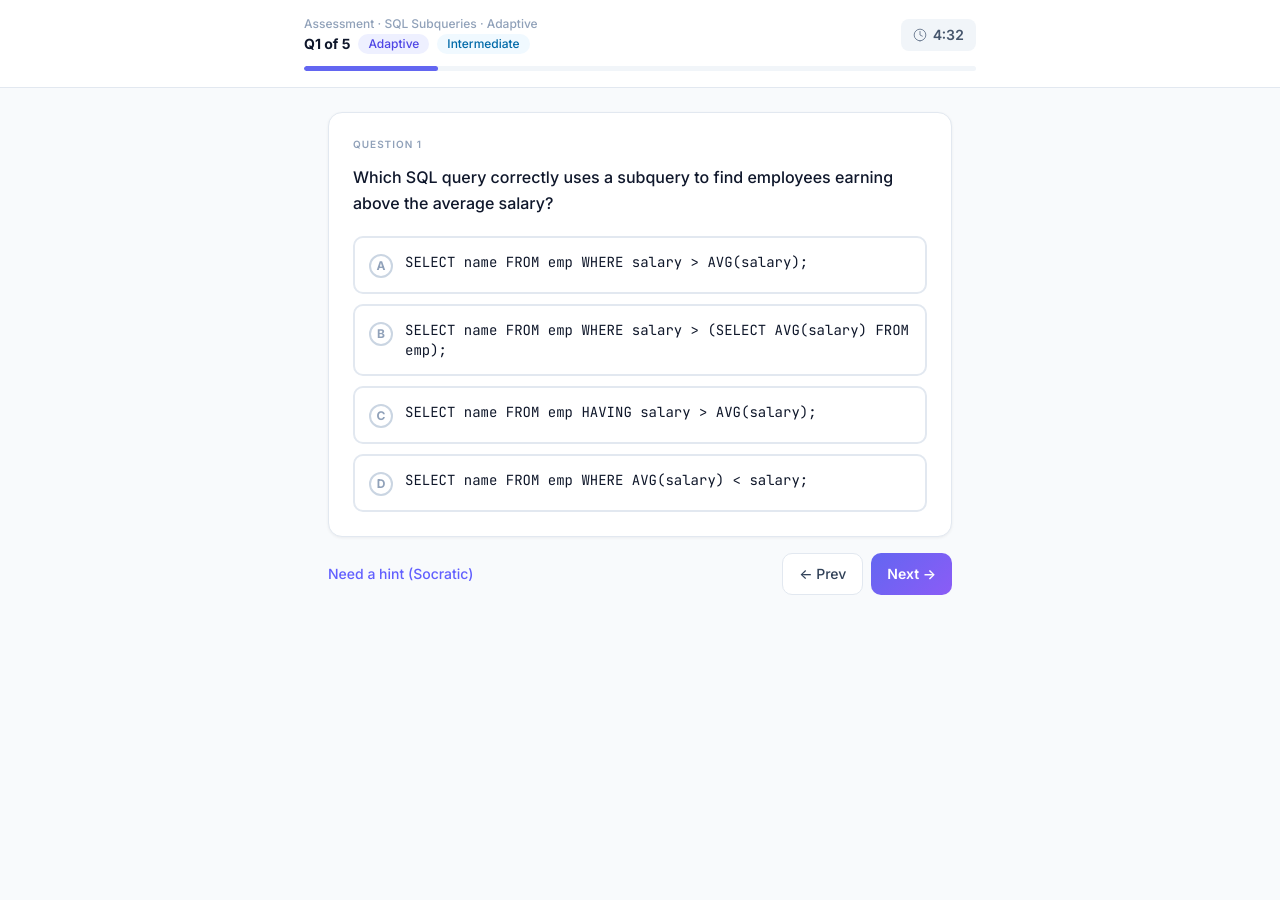
Test: Student Screens & Interactive Navigation Test Suite › Assessment & Results Components › Assessment allows selecting MCQ options and stepping through questions
This screenshot has width=1280, height=900.
Expected: the text "Assessment · SQL Subqueries · Adaptive" is shown, [304,16,538,32]
Expected: the text "Q1 of 5" is shown, [304,34,350,54]
# Show Socratic hint
Click the button "Need a hint (Socratic)": [401, 574] box [328,564,473,584]
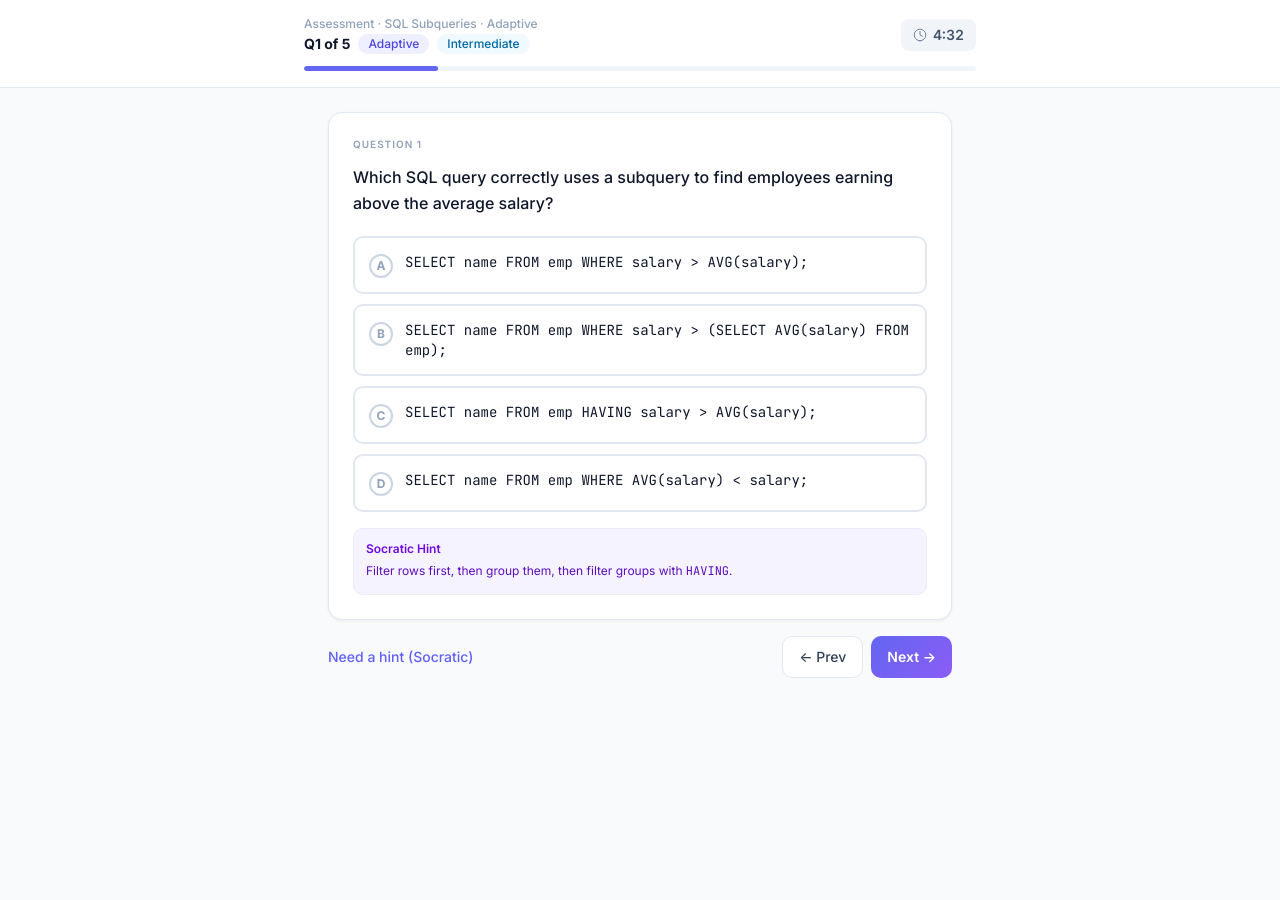
Expected: the text "Socratic Hint" is shown, [366,541,441,556]
# Step next
Click the button "Next →": [912, 656] box [871,636,952,678]
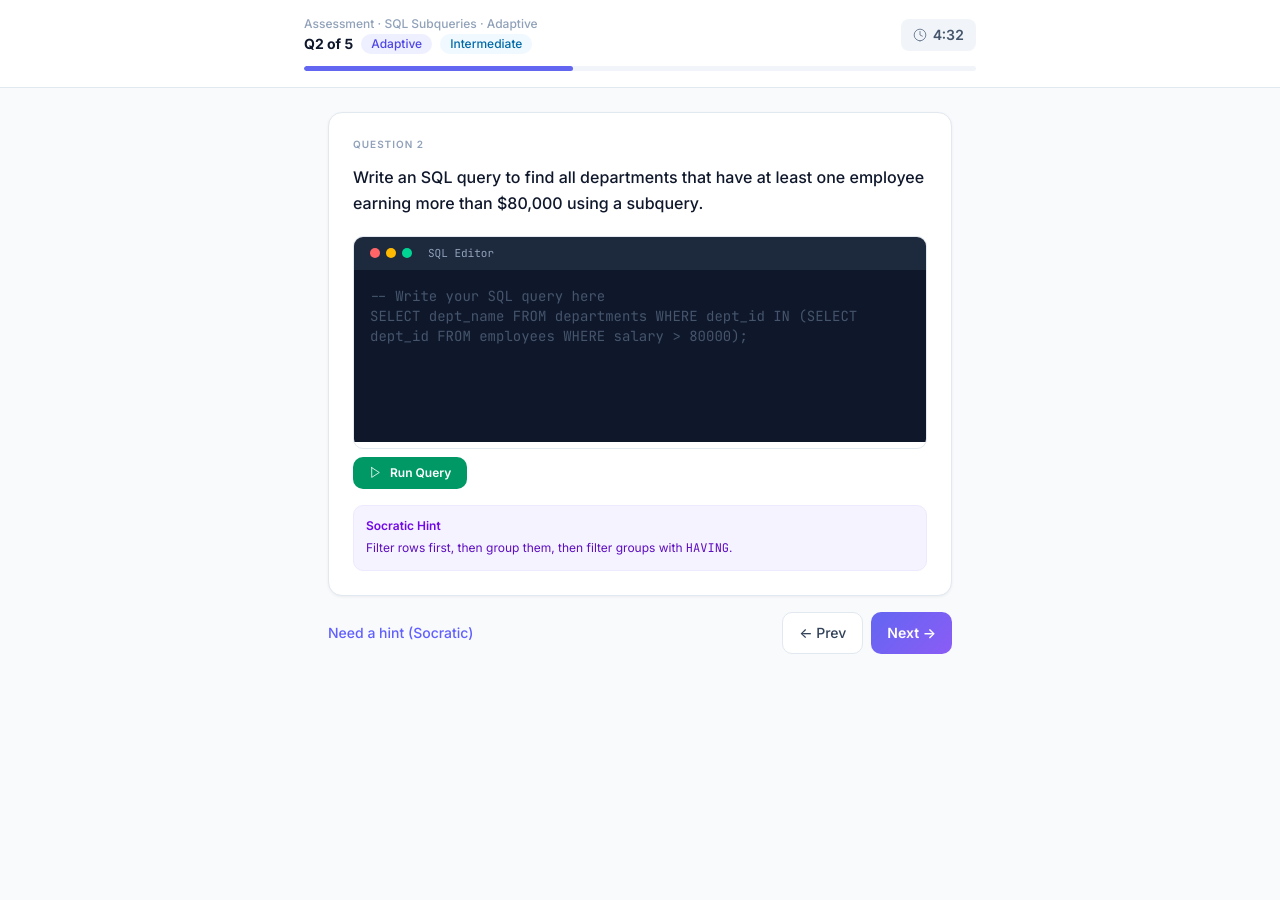
Expected: the text "Q2 of 5" is shown, [304,34,353,54]
